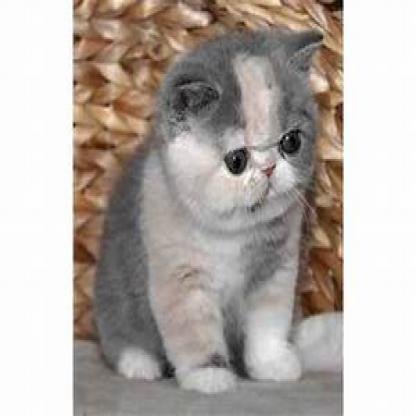cat: (115, 23, 318, 376)
